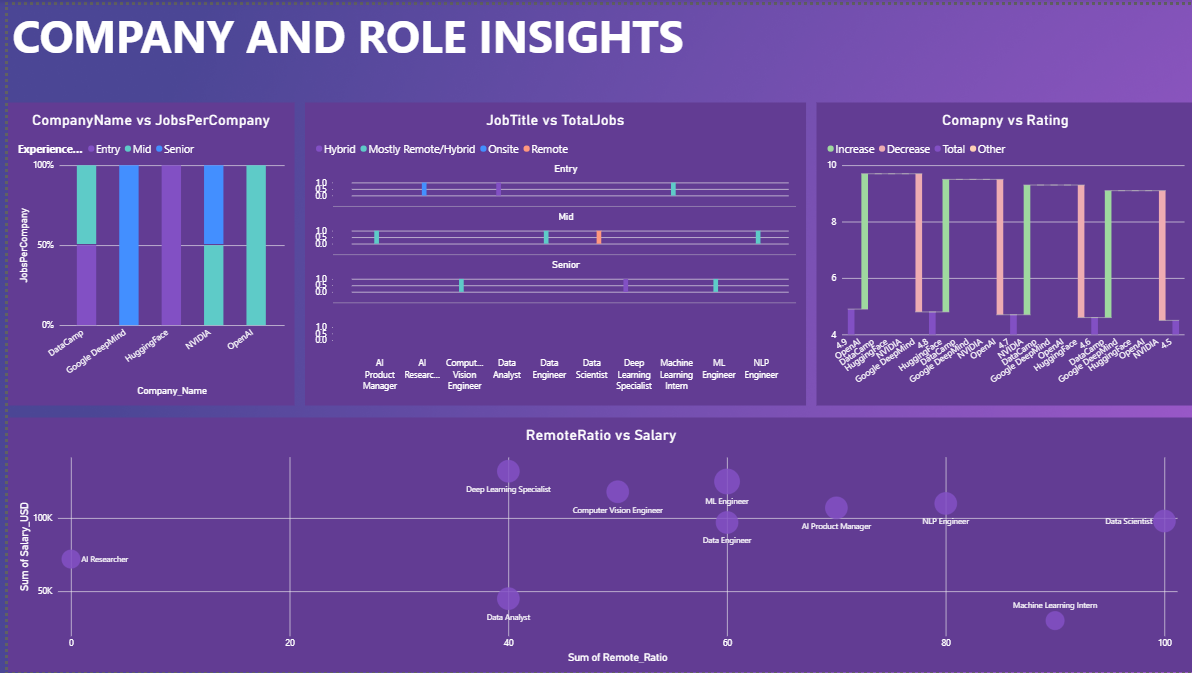

This screenshot's page, from the dashboard's own definition file:
{"tool":"powerbi","page":{"name":"Company and Role Insights","canvas":[1920,1080],"ordinal":2},"visuals":[{"type":"hundredPercentStackedColumnChart","title":"CompanyName vs JobsPerCompany","fields":{"Category":["Dim_Companies.Company_Name"],"Series":["Fact_Jobs.Experience_Level"],"Y":["Dim_Companies.JobsPerCompany"]},"box":[0,157.9,463.9,490.6],"z":0},{"type":"textbox","box":[0,0,1100.3,111.7],"z":1},{"type":"waterfallChart","title":"Comapny vs Rating","fields":{"Breakdown":["Dim_Companies.Company_Name"],"Category":["Dim_Companies.Rating"],"Y":["Dim_Companies.CompanyAvgRating"]},"box":[1309.1,157.9,612.1,490.6],"z":2},{"type":"clusteredColumnChart","title":"JobTitle vs TotalJobs","fields":{"Category":["Fact_Jobs.Job_Title"],"Rows":["Fact_Jobs.Experience_Level"],"Series":["Fact_Jobs.IsRemote"],"Y":["Fact_Jobs.TotalJobs"]},"box":[480.9,157.9,811.2,490.6],"z":3},{"type":"scatterChart","title":"RemoteRatio vs Salary","fields":{"Category":["Fact_Jobs.Job_Title"],"Size":["Dim_Skills.SkillUsageCount"],"X":["Sum(Fact_Jobs.Remote_Ratio)"],"Y":["Sum(Fact_Jobs.Salary_USD)"]},"box":[0,667.9,1921.2,412.9],"z":4}]}

Visuals, with their boxes in screenshot pixels (x1, y1, x2, y2), scaled from the page's 1920x1080 canvas onto the 1192x673 screenshot:
"CompanyName vs JobsPerCompany" hundredPercentStackedColumnChart: (0, 98, 288, 404)
textbox: (0, 0, 683, 70)
"Comapny vs Rating" waterfallChart: (813, 98, 1191, 404)
"JobTitle vs TotalJobs" clusteredColumnChart: (299, 98, 802, 404)
"RemoteRatio vs Salary" scatterChart: (0, 416, 1191, 672)
